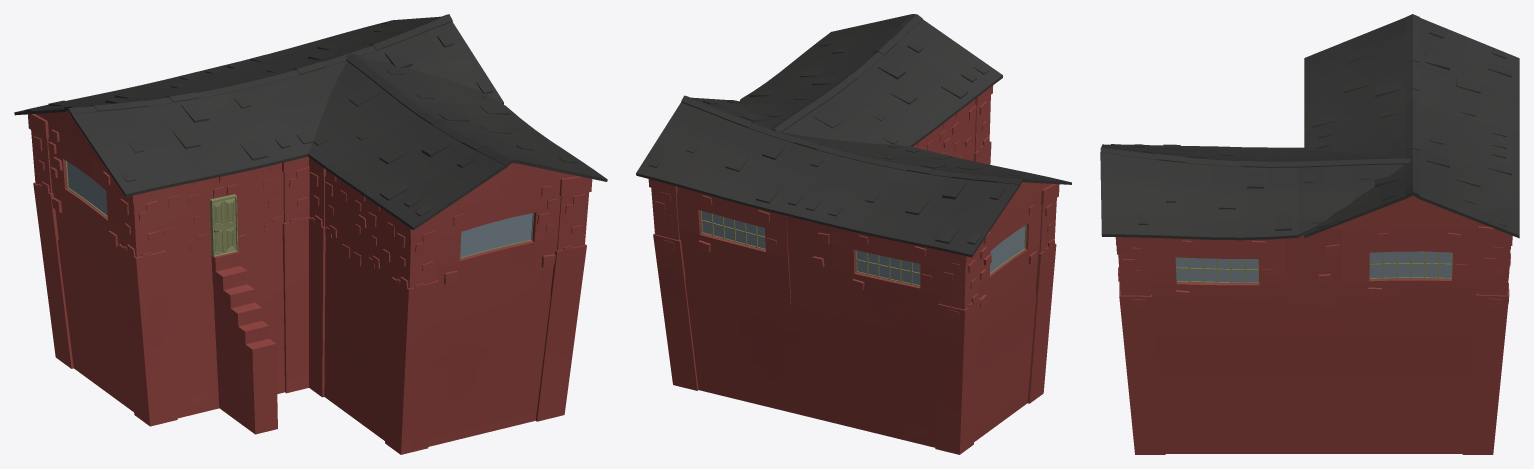
The model's file is 4 skewed - col.glb.
3 renders of one model, left to right at view 1: azimuth 30°, elevation 25°; view 2: azimuth 150°, elevation 25°; view 3: azimuth 270°, elevation 25°, orthographic. The views are drawn at different scales.
Parts seen in each view (by area): view 1: 4 skewed - col.001; view 2: 4 skewed - col.001; view 3: 4 skewed - col.001.
Boxes of the visible parts, box(x1,y1,x2,y2) form: 4 skewed - col.001: box(14, 14, 607, 454); 4 skewed - col.001: box(636, 14, 1071, 454); 4 skewed - col.001: box(1100, 14, 1519, 454).
Size of the model in its own units: 29.42 by 21.26 by 29.15.
3 materials, 1 textured.
